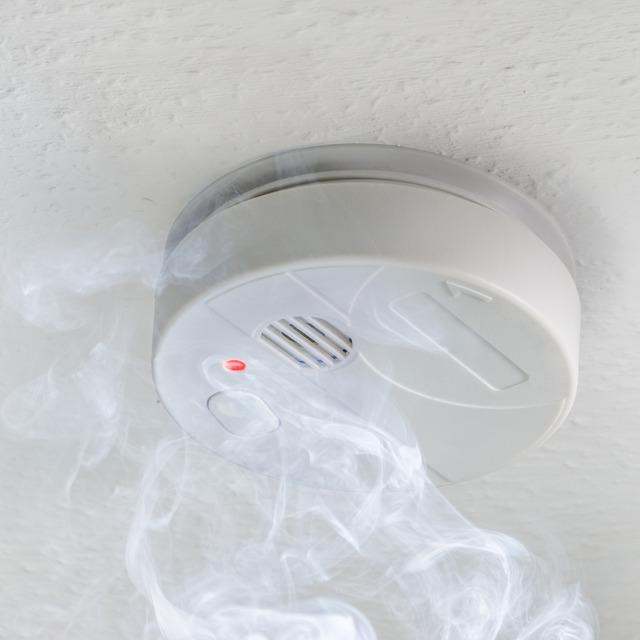Smoke-Detector: (156, 141, 584, 493)
